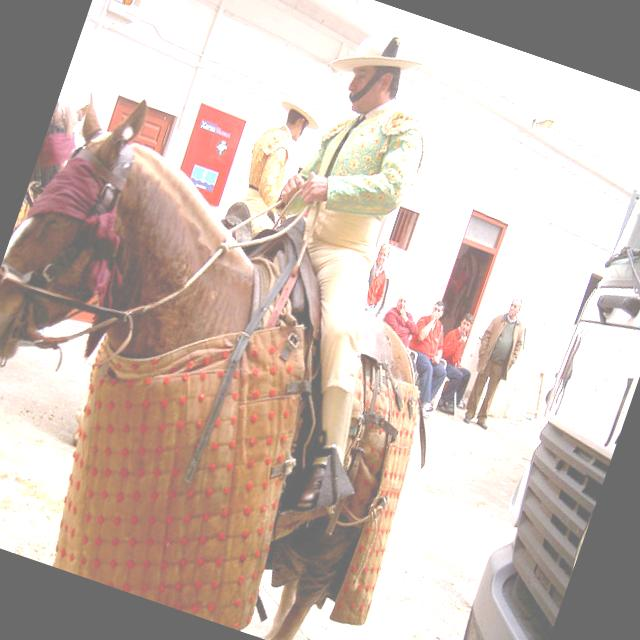Vehicle: (437, 93, 640, 640)
